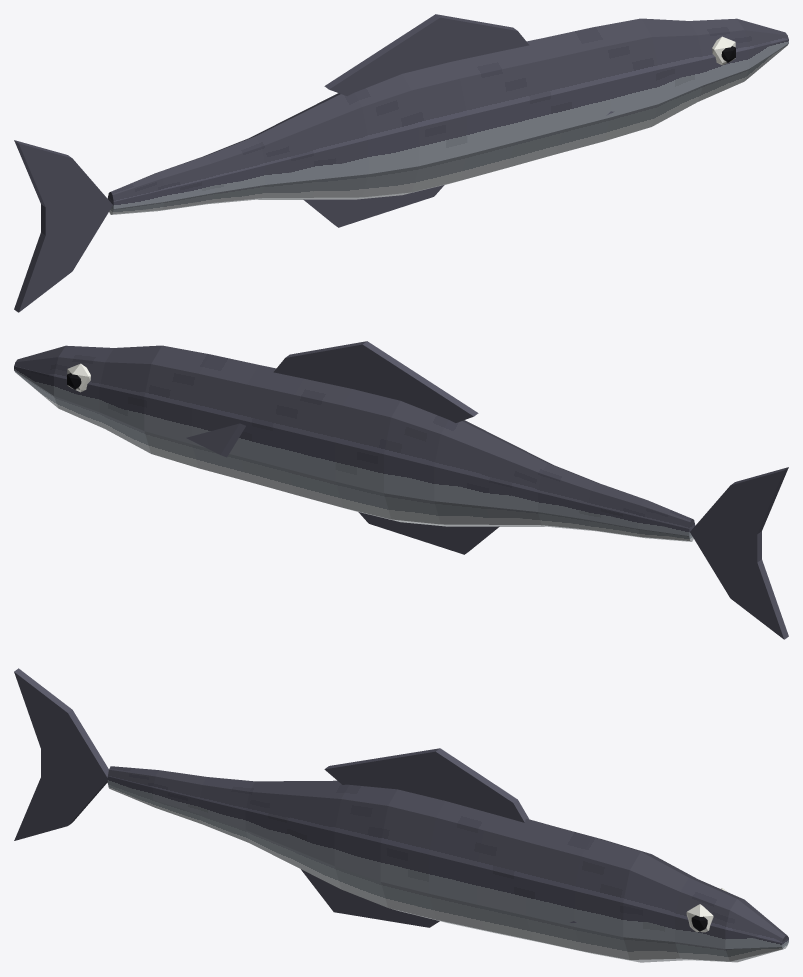
The model's file is gemfish.glb.
3 views of the same model, one above another, from view 1: azimuth 30°, elevation 25°; view 2: azimuth 150°, elevation 25°; view 3: azimuth 330°, elevation 25° (orthographic).
Parts seen in each view (by area): view 1: fish_gemfish; view 2: fish_gemfish; view 3: fish_gemfish.
Part boxes in pixels (x1,y1,x2,y2): fish_gemfish: [14, 14, 788, 312]; fish_gemfish: [14, 341, 788, 639]; fish_gemfish: [14, 668, 788, 962].
Size of the model in its own units: 1.14 by 0.2725 by 0.1267.
Materials: 4 (1 with a texture image).
